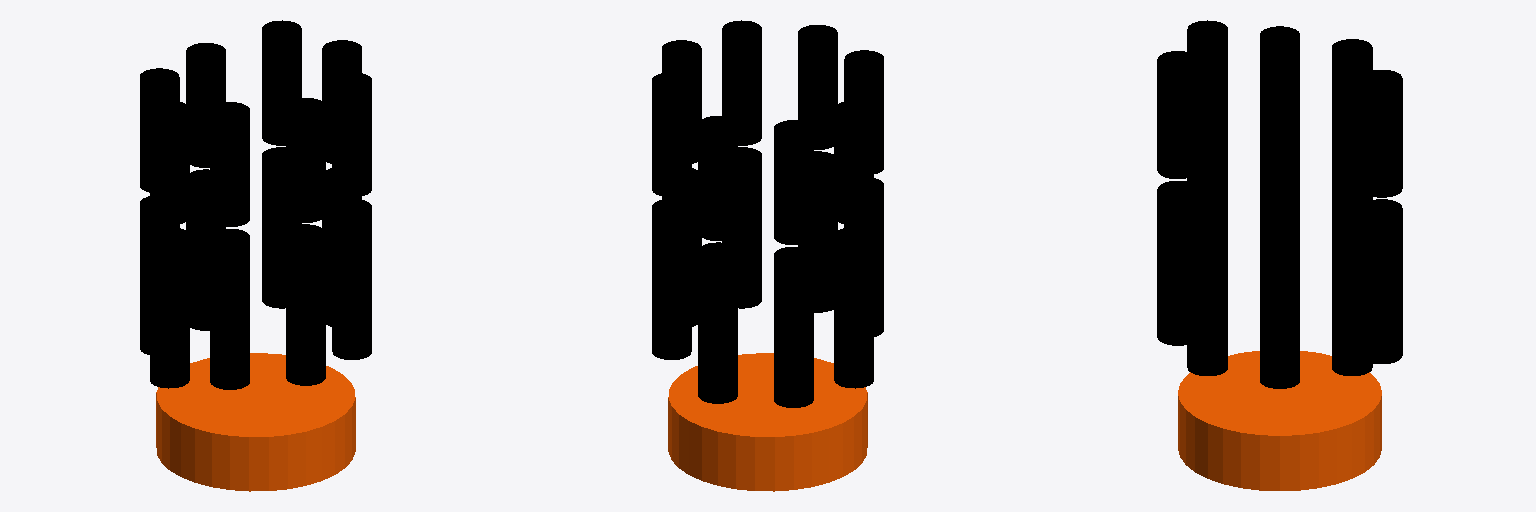
--- Facts derived from the render (not from the file) ---
Views: 3 orthographic renders of the robot side by side, from view 1: azimuth 30°, elevation 25°; view 2: azimuth 150°, elevation 25°; view 3: azimuth 270°, elevation 25°.
Model spider with 25 links and 24 joints (24 revolute), rooted at chassis, posed every joint at zero.
Links seen in each view (by area): view 1: chassis, left_torso_3_3, left_torso_4_3, right_torso_1_3, right_torso_2_3, right_torso_4_3, left_torso_1_3, right_torso_2_2, left_torso_3_2, left_torso_4_2, right_torso_1_2, right_torso_1_1 (+12 smaller); view 2: chassis, left_torso_3_3, left_torso_1_3, left_torso_2_3, right_torso_4_3, right_torso_2_3, right_torso_1_3, right_torso_4_2, left_torso_1_2, left_torso_2_2, left_torso_3_2, left_torso_2_1 (+12 smaller); view 3: chassis, right_torso_2_3, right_torso_4_3, right_torso_3_3, right_torso_1_3, left_torso_1_3, right_torso_2_2, right_torso_4_2, right_torso_3_2, right_torso_2_1, right_torso_4_1, right_torso_3_1 (+7 smaller).
Link boxes in pixels (x1,y1,x2,y2): chassis: (156,353,355,491); left_torso_3_3: (150,100,189,225); left_torso_4_3: (210,102,249,226); right_torso_1_3: (286,98,325,222); right_torso_2_3: (332,72,371,196); right_torso_4_3: (262,20,301,145); left_torso_1_3: (186,43,225,167); right_torso_2_2: (332,199,371,287); left_torso_3_2: (150,227,189,315); left_torso_4_2: (210,229,249,317); right_torso_1_2: (286,224,325,313); right_torso_1_1: (286,306,325,385); chassis: (668,353,867,491); left_torso_3_3: (834,100,873,225); left_torso_1_3: (698,116,737,240); left_torso_2_3: (774,120,813,244); right_torso_4_3: (652,72,691,196); right_torso_2_3: (722,20,761,145); right_torso_1_3: (798,25,837,149); right_torso_4_2: (652,199,691,287); left_torso_1_2: (698,242,737,331); left_torso_2_2: (774,247,813,335); left_torso_3_2: (834,227,873,315); left_torso_2_1: (774,329,813,407); chassis: (1178,351,1381,490); right_torso_2_3: (1187,82,1227,209); right_torso_4_3: (1332,82,1372,209); right_torso_3_3: (1260,94,1299,221); right_torso_1_3: (1157,51,1197,178); left_torso_1_3: (1362,70,1402,197); right_torso_2_2: (1187,211,1227,301); right_torso_4_2: (1332,211,1372,301); right_torso_3_2: (1260,224,1299,314); right_torso_2_1: (1187,294,1227,375); right_torso_4_1: (1332,294,1372,375); right_torso_3_1: (1260,309,1299,388).
Size in the robot's own frame: 12 by 12 by 21 metres.
Geometry: primitives only (box / cylinder / sphere), no mesh files.

URDF robot description (spider):
<?xml version="1.0" ?>
<!-- =================================================================================== -->
<!-- |    This document was autogenerated by xacro from spider.xacro                   | -->
<!-- |    EDITING THIS FILE BY HAND IS NOT RECOMMENDED                                 | -->
<!-- =================================================================================== -->
<!-- Octapod -->
<robot name="spider" xmlns:xacro="http://www.ros.org/wiki/xacro">
  <!-- Space btw top of beam and the each joint -->
  <!-- ros_control plugin -->
  <gazebo>
    <plugin filename="libgazebo_ros_control.so" name="gazebo_ros_control">
      <robotNamespace>/spider</robotNamespace>
      <robotSimType>gazebo_ros_control/DefaultRobotHWSim</robotSimType>
    </plugin>
  </gazebo>
  <plugin filename="libgazebo_ros_joint_state_publisher.so" name="joint_state_publisher">
    <robotNamespace>spider</robotNamespace>
    <jointName>
        joint_1_1,joint_1_2,joint_1_3,joint_2_1,joint_2_2,joint_2_3,joint_3_1,joint_3_2,joint_3_3,joint_4_1,joint_4_2,joint_4_3,joint_5_1,joint_5_2,joint_5_3,joint_6_1,joint_6_2,joint_6_3,joint_7_1,joint_7_2,joint_7_3,joint_8_1,joint_8_2,joint_8_3
    </jointName>
    <updateRate>100</updateRate>
    <alwaysOn>true</alwaysOn>
  </plugin>
  <!-- chassis -->
  <gazebo reference="chassis">
    <material>Gazebo/Orange</material>
  </gazebo>
  <!-- Link1_1 -->
  <gazebo reference="left_torso_1_1">
    <mu1>0.2</mu1>
    <mu2>0.2</mu2>
    <material>Gazebo/Black</material>
  </gazebo>
  <!-- Link1_2 -->
  <gazebo reference="left_torso_1_2">
    <mu1>0.2</mu1>
    <mu2>0.2</mu2>
    <material>Gazebo/Black</material>
  </gazebo>
  <!-- Link1_3 -->
  <gazebo reference="left_torso_1_3">
    <mu1>0.2</mu1>
    <mu2>0.2</mu2>
    <material>Gazebo/Black</material>
  </gazebo>
  <!-- Link2_1 -->
  <gazebo reference="left_torso_2_1">
    <mu1>0.2</mu1>
    <mu2>0.2</mu2>
    <material>Gazebo/Black</material>
  </gazebo>
  <!-- Link2_2 -->
  <gazebo reference="left_torso_2_2">
    <mu1>0.2</mu1>
    <mu2>0.2</mu2>
    <material>Gazebo/Black</material>
  </gazebo>
  <!-- Link2_3 -->
  <gazebo reference="left_torso_2_3">
    <mu1>0.2</mu1>
    <mu2>0.2</mu2>
    <material>Gazebo/Black</material>
  </gazebo>
  <!-- Link3_1 -->
  <gazebo reference="left_torso_3_1">
    <mu1>0.2</mu1>
    <mu2>0.2</mu2>
    <material>Gazebo/Black</material>
  </gazebo>
  <!-- Link3_2 -->
  <gazebo reference="left_torso_3_2">
    <mu1>0.2</mu1>
    <mu2>0.2</mu2>
    <material>Gazebo/Black</material>
  </gazebo>
  <!-- Link3_3 -->
  <gazebo reference="left_torso_3_3">
    <mu1>0.2</mu1>
    <mu2>0.2</mu2>
    <material>Gazebo/Black</material>
  </gazebo>
  <!-- Link4_1 -->
  <gazebo reference="left_torso_4_1">
    <mu1>0.2</mu1>
    <mu2>0.2</mu2>
    <material>Gazebo/Black</material>
  </gazebo>
  <!-- Link4_2 -->
  <gazebo reference="left_torso_4_2">
    <mu1>0.2</mu1>
    <mu2>0.2</mu2>
    <material>Gazebo/Black</material>
  </gazebo>
  <!-- Link4_3 -->
  <gazebo reference="left_torso_4_3">
    <mu1>0.2</mu1>
    <mu2>0.2</mu2>
    <material>Gazebo/Black</material>
  </gazebo>
  <!-- Link5_1 -->
  <gazebo reference="right_torso_1_1">
    <mu1>0.2</mu1>
    <mu2>0.2</mu2>
    <material>Gazebo/Black</material>
  </gazebo>
  <!-- Link5_2 -->
  <gazebo reference="right_torso_1_2">
    <mu1>0.2</mu1>
    <mu2>0.2</mu2>
    <material>Gazebo/Black</material>
  </gazebo>
  <!-- camera_link -->
  <gazebo reference="camera_link">
    <mu1>0.2</mu1>
    <mu2>0.2</mu2>
    <material>Gazebo/Red</material>
  </gazebo>
  <!-- Link5_3 -->
  <gazebo reference="right_torso_1_3">
    <mu1>0.2</mu1>
    <mu2>0.2</mu2>
    <material>Gazebo/Black</material>
  </gazebo>
  <!-- Link6_1 -->
  <gazebo reference="right_torso_2_1">
    <mu1>0.2</mu1>
    <mu2>0.2</mu2>
    <material>Gazebo/Black</material>
  </gazebo>
  <!-- Link6_2 -->
  <gazebo reference="right_torso_2_2">
    <mu1>0.2</mu1>
    <mu2>0.2</mu2>
    <material>Gazebo/Black</material>
  </gazebo>
  <!-- Link6_3 -->
  <gazebo reference="right_torso_2_3">
    <mu1>0.2</mu1>
    <mu2>0.2</mu2>
    <material>Gazebo/Black</material>
  </gazebo>
  <!-- Link7_1 -->
  <gazebo reference="right_torso_3_1">
    <mu1>0.2</mu1>
    <mu2>0.2</mu2>
    <material>Gazebo/Black</material>
  </gazebo>
  <!-- Link7_2 -->
  <gazebo reference="right_torso_3_2">
    <mu1>0.2</mu1>
    <mu2>0.2</mu2>
    <material>Gazebo/Black</material>
  </gazebo>
  <!-- Link7_3 -->
  <gazebo reference="right_torso_3_3">
    <mu1>0.2</mu1>
    <mu2>0.2</mu2>
    <material>Gazebo/Black</material>
  </gazebo>
  <!-- Link8_1 -->
  <gazebo reference="right_torso_4_1">
    <mu1>0.2</mu1>
    <mu2>0.2</mu2>
    <material>Gazebo/Black</material>
  </gazebo>
  <!-- Link8_2 -->
  <gazebo reference="right_torso_4_2">
    <mu1>0.2</mu1>
    <mu2>0.2</mu2>
    <material>Gazebo/Black</material>
  </gazebo>
  <!-- Link8_3 -->
  <gazebo reference="right_torso_4_3">
    <mu1>0.2</mu1>
    <mu2>0.2</mu2>
    <material>Gazebo/Black</material>
  </gazebo>
  <material name="black">
    <color rgba="0.0 0.0 0.0 1.0"/>
  </material>
  <material name="blue">
    <color rgba="0.0 0.0 0.8 1.0"/>
  </material>
  <material name="green">
    <color rgba="0.0 0.8 0.0 1.0"/>
  </material>
  <material name="grey">
    <color rgba="0.2 0.2 0.2 1.0"/>
  </material>
  <material name="orange">
    <color rgba="1.0 0.423529411765 0.0392156862745 1.0"/>
  </material>
  <material name="brown">
    <color rgba="0.870588235294 0.811764705882 0.764705882353 1.0"/>
  </material>
  <material name="red">
    <color rgba="0.8 0.0 0.0 1.0"/>
  </material>
  <material name="white">
    <color rgba="1.0 1.0 1.0 1.0"/>
  </material>
  <!-- chassis -->
  <link name="chassis">
    <collision>
      <origin rpy="0 0 0" xyz="0 0 1.5"/>
      <geometry>
        <cylinder length="3" radius="5"/>
      </geometry>
    </collision>
    <visual>
      <origin rpy="0 0 0" xyz="0 0 1.5"/>
      <geometry>
        <cylinder length="3" radius="5"/>
        <mesh filename="package://spider_description/meshes/chassis_upper.dae"/>
      </geometry>
      <material name="orange"/>
    </visual>
    <inertial>
      <origin rpy="0 0 0" xyz="0 0 1.5"/>
      <mass value="4"/>
      <inertia ixx="16.0" ixy="0.0" ixz="0.0" iyy="16.0" iyz="0.0" izz="11.0"/>
    </inertial>
  </link>
  <joint name="joint_1_1" type="revolute">
    <parent link="chassis"/>
    <child link="left_torso_1_1"/>
    <origin rpy="0 0 0" xyz="0 5 3"/>
    <axis xyz="0 1 0"/>
    <dynamics damping="0.7" friction="0.0"/>
    <limit effort="30" lower="-2.2" upper="0.7" velocity="1.0"/>
    <safety_controller k_position="15" k_velocity="10" soft_lower_limit="-2.0" soft_upper_limit="0.5"/>
  </joint>
  <!-- left_torso_1_1 -->
  <link name="left_torso_1_1">
    <collision>
      <origin rpy="0 0 0" xyz="0 0 4"/>
      <geometry>
        <cylinder length="4" radius="1"/>
      </geometry>
    </collision>
    <visual>
      <origin rpy="0 0 0" xyz="0 0 4"/>
      <geometry>
        <cylinder length="4" radius="1"/>
      </geometry>
      <material name="black"/>
    </visual>
    <inertial>
      <origin rpy="0 0 0" xyz="0 0 4"/>
      <mass value="1"/>
      <inertia ixx="3.5" ixy="0.0" ixz="0.0" iyy="3.5" iyz="0.0" izz="3.0"/>
    </inertial>
  </link>
  <joint name="joint_1_2" type="revolute">
    <parent link="left_torso_1_1"/>
    <child link="left_torso_1_2"/>
    <origin rpy="0 0 0" xyz="0 0 4"/>
    <axis xyz="0 1 0"/>
    <dynamics damping="0.7" friction="0.0"/>
    <limit effort="30" lower="-2.2" upper="0.7" velocity="1.0"/>
    <safety_controller k_position="15" k_velocity="10" soft_lower_limit="-2.0" soft_upper_limit="0.5"/>
  </joint>
  <!-- left_torso_1_2-->
  <link name="left_torso_1_2">
    <collision>
      <origin rpy="0 0 0" xyz="0 0 4"/>
      <geometry>
        <cylinder length="4" radius="1"/>
      </geometry>
    </collision>
    <visual>
      <origin rpy="0 0 0" xyz="0 0 4"/>
      <geometry>
        <cylinder length="4" radius="1"/>
      </geometry>
      <material name="black"/>
    </visual>
    <inertial>
      <origin rpy="0 0 0" xyz="0 0 4"/>
      <mass value="1"/>
      <inertia ixx="3.5" ixy="0.0" ixz="0.0" iyy="3.5" iyz="0.0" izz="3.0"/>
    </inertial>
  </link>
  <joint name="joint_1_3" type="revolute">
    <parent link="left_torso_1_2"/>
    <child link="left_torso_1_3"/>
    <origin rpy="0 0 0" xyz="0 0 4"/>
    <axis xyz="0 1 0"/>
    <dynamics damping="0.7" friction="0.0"/>
    <limit effort="30" lower="-2.2" upper="0.7" velocity="1.0"/>
    <safety_controller k_position="15" k_velocity="10" soft_lower_limit="-2.0" soft_upper_limit="0.5"/>
  </joint>
  <!-- left_torso_1_3 -->
  <link name="left_torso_1_3">
    <collision>
      <origin rpy="0 0 0" xyz="0 0 6"/>
      <geometry>
        <cylinder length="6" radius="1"/>
      </geometry>
    </collision>
    <visual>
      <origin rpy="0 0 0" xyz="0 0 6"/>
      <geometry>
        <cylinder length="6" radius="1"/>
      </geometry>
      <material name="black"/>
    </visual>
    <inertial>
      <origin rpy="0 0 0" xyz="0 0 6"/>
      <mass value="1"/>
      <inertia ixx="4.5" ixy="0.0" ixz="0.0" iyy="4.5" iyz="0.0" izz="3.0"/>
    </inertial>
  </link>
  <joint name="joint_2_1" type="revolute">
    <parent link="chassis"/>
    <child link="left_torso_2_1"/>
    <origin rpy="0 0 0" xyz="-3.535 3.535 3"/>
    <axis xyz="0 1 0"/>
    <dynamics damping="0.7" friction="0.0"/>
    <limit effort="30" lower="-2.2" upper="0.7" velocity="1.0"/>
    <safety_controller k_position="15" k_velocity="10" soft_lower_limit="-2.0" soft_upper_limit="0.5"/>
  </joint>
  <!-- Camera -->
  <link name="left_torso_2_1">
    <collision>
      <origin rpy="0 0 0" xyz="0 0 4"/>
      <geometry>
        <cylinder length="4" radius="1"/>
      </geometry>
    </collision>
    <visual>
      <origin rpy="0 0 0" xyz="0 0 4"/>
      <geometry>
        <cylinder length="4" radius="1"/>
      </geometry>
      <material name="black"/>
    </visual>
    <inertial>
      <origin rpy="0 0 0" xyz="0 0 4"/>
      <mass value="1"/>
      <inertia ixx="3.5" ixy="0.0" ixz="0.0" iyy="3.5" iyz="0.0" izz="3.0"/>
    </inertial>
  </link>
  <joint name="joint_2_2" type="revolute">
    <parent link="left_torso_2_1"/>
    <child link="left_torso_2_2"/>
    <origin rpy="0 0 0" xyz="0 0 4"/>
    <axis xyz="0 1 0"/>
    <dynamics damping="0.7" friction="0.0"/>
    <limit effort="30" lower="-2.2" upper="0.7" velocity="1.0"/>
    <safety_controller k_position="15" k_velocity="10" soft_lower_limit="-2.0" soft_upper_limit="0.5"/>
  </joint>
  <!--left torso link 2_2-->
  <link name="left_torso_2_2">
    <collision>
      <origin rpy="0 0 0" xyz="0 0 4"/>
      <geometry>
        <cylinder length="4" radius="1"/>
      </geometry>
    </collision>
    <visual>
      <origin rpy="0 0 0" xyz="0 0 4"/>
      <geometry>
        <cylinder length="4" radius="1"/>
      </geometry>
      <material name="black"/>
    </visual>
    <inertial>
      <origin rpy="0 0 0" xyz="0 0 4"/>
      <mass value="1"/>
      <inertia ixx="3.5" ixy="0.0" ixz="0.0" iyy="3.5" iyz="0.0" izz="3.0"/>
    </inertial>
  </link>
  <joint name="joint_2_3" type="revolute">
    <parent link="left_torso_2_2"/>
    <child link="left_torso_2_3"/>
    <origin rpy="0 0 0" xyz="0 0 4"/>
    <axis xyz="0 1 0"/>
    <dynamics damping="0.7" friction="0.0"/>
    <limit effort="30" lower="-2.2" upper="0.7" velocity="1.0"/>
    <safety_controller k_position="15" k_velocity="10" soft_lower_limit="-2.0" soft_upper_limit="0.5"/>
  </joint>
  <!--left torso link 2_3-->
  <link name="left_torso_2_3">
    <collision>
      <origin rpy="0 0 0" xyz="0 0 6"/>
      <geometry>
        <cylinder length="6" radius="1"/>
      </geometry>
    </collision>
    <visual>
      <origin rpy="0 0 0" xyz="0 0 6"/>
      <geometry>
        <cylinder length="6" radius="1"/>
      </geometry>
      <material name="black"/>
    </visual>
    <inertial>
      <origin rpy="0 0 0" xyz="0 0 6"/>
      <mass value="1"/>
      <inertia ixx="4.5" ixy="0.0" ixz="0.0" iyy="4.5" iyz="0.0" izz="3.0"/>
    </inertial>
  </link>
  <joint name="joint_3_1" type="revolute">
    <parent link="chassis"/>
    <child link="left_torso_3_1"/>
    <origin rpy="0 0 0" xyz="-5 0 3"/>
    <axis xyz="0 1 0"/>
    <dynamics damping="0.7" friction="0.0"/>
    <limit effort="30" lower="-2.2" upper="0.7" velocity="1.0"/>
    <safety_controller k_position="15" k_velocity="10" soft_lower_limit="-2.0" soft_upper_limit="0.5"/>
  </joint>
  <!--left torso link 3_1-->
  <link name="left_torso_3_1">
    <collision>
      <origin rpy="0 0 0" xyz="0 0 4"/>
      <geometry>
        <cylinder length="4" radius="1"/>
      </geometry>
    </collision>
    <visual>
      <origin rpy="0 0 0" xyz="0 0 4"/>
      <geometry>
        <cylinder length="4" radius="1"/>
      </geometry>
      <material name="black"/>
    </visual>
    <inertial>
      <origin rpy="0 0 0" xyz="0 0 4"/>
      <mass value="1"/>
      <inertia ixx="3.5" ixy="0.0" ixz="0.0" iyy="3.5" iyz="0.0" izz="3.0"/>
    </inertial>
  </link>
  <joint name="joint_3_2" type="revolute">
    <parent link="left_torso_3_1"/>
    <child link="left_torso_3_2"/>
    <origin rpy="0 0 0" xyz="0 0 4"/>
    <axis xyz="0 1 0"/>
    <dynamics damping="0.7" friction="0.0"/>
    <limit effort="30" lower="-2.2" upper="0.7" velocity="1.0"/>
    <safety_controller k_position="15" k_velocity="10" soft_lower_limit="-2.0" soft_upper_limit="0.5"/>
  </joint>
  <link name="left_torso_3_2">
    <collision>
      <origin rpy="0 0 0" xyz="0 0 4"/>
      <geometry>
        <cylinder length="4" radius="1"/>
      </geometry>
    </collision>
    <visual>
      <origin rpy="0 0 0" xyz="0 0 4"/>
      <geometry>
        <cylinder length="4" radius="1"/>
      </geometry>
      <material name="black"/>
    </visual>
    <inertial>
      <origin rpy="0 0 0" xyz="0 0 4"/>
      <mass value="1"/>
      <inertia ixx="3.5" ixy="0.0" ixz="0.0" iyy="3.5" iyz="0.0" izz="3.0"/>
    </inertial>
  </link>
  <joint name="joint_3_3" type="revolute">
    <parent link="left_torso_3_2"/>
    <child link="left_torso_3_3"/>
    <origin rpy="0 0 0" xyz="0 0 4"/>
    <axis xyz="0 1 0"/>
    <dynamics damping="0.7" friction="0.0"/>
    <limit effort="30" lower="-2.2" upper="0.7" velocity="1.0"/>
    <safety_controller k_position="15" k_velocity="10" soft_lower_limit="-2.0" soft_upper_limit="0.5"/>
  </joint>
  <link name="left_torso_3_3">
    <collision>
      <origin rpy="0 0 0" xyz="0 0 6"/>
      <geometry>
        <cylinder length="6" radius="1"/>
      </geometry>
    </collision>
    <visual>
      <origin rpy="0 0 0" xyz="0 0 6"/>
      <geometry>
        <cylinder length="6" radius="1"/>
      </geometry>
      <material name="black"/>
    </visual>
    <inertial>
      <origin rpy="0 0 0" xyz="0 0 6"/>
      <mass value="1"/>
      <inertia ixx="4.5" ixy="0.0" ixz="0.0" iyy="4.5" iyz="0.0" izz="3.0"/>
    </inertial>
  </link>
  <!-- left torso link 4-->
  <joint name="joint_4_1" type="revolute">
    <parent link="chassis"/>
    <child link="left_torso_4_1"/>
    <origin rpy="0 0 0" xyz="-3.535 -3.535 4"/>
    <axis xyz="0 1 0"/>
    <dynamics damping="0.7" friction="0.0"/>
    <limit effort="30" lower="-2.2" upper="0.7" velocity="1.0"/>
    <safety_controller k_position="15" k_velocity="10" soft_lower_limit="-2.0" soft_upper_limit="0.5"/>
  </joint>
  <link name="left_torso_4_1">
    <collision>
      <origin rpy="0 0 0" xyz="0 0 4"/>
      <geometry>
        <cylinder length="4" radius="1"/>
      </geometry>
    </collision>
    <visual>
      <origin rpy="0 0 0" xyz="0 0 4"/>
      <geometry>
        <cylinder length="4" radius="1"/>
      </geometry>
      <material name="black"/>
    </visual>
    <inertial>
      <origin rpy="0 0 0" xyz="0 0 4"/>
      <mass value="1"/>
      <inertia ixx="3.5" ixy="0.0" ixz="0.0" iyy="3.5" iyz="0.0" izz="3.0"/>
    </inertial>
  </link>
  <joint name="joint_4_2" type="revolute">
    <parent link="left_torso_4_1"/>
    <child link="left_torso_4_2"/>
    <origin rpy="0 0 0" xyz="0 0 4"/>
    <axis xyz="0 1 0"/>
    <dynamics damping="0.7" friction="0.0"/>
    <limit effort="30" lower="-2.2" upper="0.7" velocity="1.0"/>
    <safety_controller k_position="15" k_velocity="10" soft_lower_limit="-2.0" soft_upper_limit="0.5"/>
  </joint>
  <link name="left_torso_4_2">
    <collision>
      <origin rpy="0 0 0" xyz="0 0 4"/>
      <geometry>
        <cylinder length="4" radius="1"/>
      </geometry>
    </collision>
    <visual>
      <origin rpy="0 0 0" xyz="0 0 4"/>
      <geometry>
        <cylinder length="4" radius="1"/>
      </geometry>
      <material name="black"/>
    </visual>
    <inertial>
      <origin rpy="0 0 0" xyz="0 0 4"/>
      <mass value="1"/>
      <inertia ixx="3.5" ixy="0.0" ixz="0.0" iyy="3.5" iyz="0.0" izz="3.0"/>
    </inertial>
  </link>
  <joint name="joint_4_3" type="revolute">
    <parent link="left_torso_4_2"/>
    <child link="left_torso_4_3"/>
    <origin rpy="0 0 0" xyz="0 0 4"/>
    <axis xyz="0 1 0"/>
    <dynamics damping="0.7" friction="0.0"/>
    <limit effort="30" lower="-2.2" upper="0.7" velocity="1.0"/>
    <safety_controller k_position="15" k_velocity="10" soft_lower_limit="-2.0" soft_upper_limit="0.5"/>
  </joint>
  <link name="left_torso_4_3">
    <collision>
      <origin rpy="0 0 0" xyz="0 0 6"/>
      <geometry>
        <cylinder length="6" radius="1"/>
      </geometry>
    </collision>
    <visual>
      <origin rpy="0 0 0" xyz="0 0 6"/>
      <geometry>
        <cylinder length="6" radius="1"/>
      </geometry>
      <material name="black"/>
    </visual>
    <inertial>
      <origin rpy="0 0 0" xyz="0 0 6"/>
      <mass value="1"/>
      <inertia ixx="4.5" ixy="0.0" ixz="0.0" iyy="4.5" iyz="0.0" izz="3.0"/>
    </inertial>
  </link>
  <joint name="joint_5_1" type="revolute">
    <parent link="chassis"/>
    <child link="right_torso_1_1"/>
    <origin rpy="0 0 0" xyz="0 -5 4"/>
    <axis xyz="0 1 0"/>
    <dynamics damping="0.7" friction="0.0"/>
    <limit effort="30" lower="-2.2" upper="0.7" velocity="1.0"/>
    <safety_controller k_position="15" k_velocity="10" soft_lower_limit="-2.0" soft_upper_limit="0.5"/>
  </joint>
  <link name="right_torso_1_1">
    <collision>
      <origin rpy="0 0 0" xyz="0 0 4"/>
      <geometry>
        <cylinder length="4" radius="1"/>
      </geometry>
    </collision>
    <visual>
      <origin rpy="0 0 0" xyz="0 0 4"/>
      <geometry>
        <cylinder length="4" radius="1"/>
      </geometry>
      <material name="black"/>
    </visual>
    <inertial>
      <origin rpy="0 0 0" xyz="0 0 4"/>
      <mass value="1"/>
      <inertia ixx="3.5" ixy="0.0" ixz="0.0" iyy="3.5" iyz="0.0" izz="3.0"/>
    </inertial>
  </link>
  <joint name="joint_5_2" type="revolute">
    <parent link="right_torso_1_1"/>
    <child link="right_torso_1_2"/>
    <origin rpy="0 0 0" xyz="0 0 4"/>
    <axis xyz="0 1 0"/>
    <dynamics damping="0.7" friction="0.0"/>
    <limit effort="30" lower="-2.2" upper="0.7" velocity="1.0"/>
    <safety_controller k_position="15" k_velocity="10" soft_lower_limit="-2.0" soft_upper_limit="0.5"/>
  </joint>
  <link name="right_torso_1_2">
    <collision>
      <origin rpy="0 0 0" xyz="0 0 4"/>
      <geometry>
        <cylinder length="4" radius="1"/>
      </geometry>
    </collision>
    <visual>
      <origin rpy="0 0 0" xyz="0 0 4"/>
      <geometry>
        <cylinder length="4" radius="1"/>
      </geometry>
      <material name="black"/>
    </visual>
    <inertial>
      <origin rpy="0 0 0" xyz="0 0 4"/>
      <mass value="1"/>
      <inertia ixx="3.5" ixy="0.0" ixz="0.0" iyy="3.5" iyz="0.0" izz="3.0"/>
    </inertial>
  </link>
  <joint name="joint_5_3" type="revolute">
    <parent link="right_torso_1_2"/>
    <child link="right_torso_1_3"/>
    <origin rpy="0 0 0" xyz="0 0 4"/>
    <axis xyz="0 1 0"/>
    <dynamics damping="0.7" friction="0.0"/>
    <limit effort="30" lower="-2.2" upper="0.7" velocity="1.0"/>
    <safety_controller k_position="15" k_velocity="10" soft_lower_limit="-2.0" soft_upper_limit="0.5"/>
  </joint>
  <link name="right_torso_1_3">
    <collision>
      <origin rpy="0 0 0" xyz="0 0 6"/>
      <geometry>
        <cylinder length="6" radius="1"/>
      </geometry>
    </collision>
    <visual>
      <origin rpy="0 0 0" xyz="0 0 6"/>
      <geometry>
        <cylinder length="6" radius="1"/>
      </geometry>
      <material name="black"/>
    </visual>
    <inertial>
      <origin rpy="0 0 0" xyz="0 0 6"/>
      <mass value="1"/>
      <inertia ixx="4.5" ixy="0.0" ixz="0.0" iyy="4.5" iyz="0.0" izz="3.0"/>
    </inertial>
  </link>
  <joint name="joint_6_1" type="revolute">
    <parent link="chassis"/>
    <child link="right_torso_2_1"/>
    <origin rpy="0 0 0" xyz="3.535 -3.535 4"/>
    <axis xyz="0 1 0"/>
    <dynamics damping="0.7" friction="0.0"/>
    <limit effort="30" lower="-2.2" upper="0.7" velocity="1.0"/>
    <safety_controller k_position="15" k_velocity="10" soft_lower_limit="-2.0" soft_upper_limit="0.5"/>
  </joint>
  <link name="right_torso_2_1">
    <collision>
      <origin rpy="0 0 0" xyz="0 0 4"/>
      <geometry>
        <cylinder length="4" radius="1"/>
      </geometry>
    </collision>
    <visual>
      <origin rpy="0 0 0" xyz="0 0 4"/>
      <geometry>
        <cylinder length="4" radius="1"/>
      </geometry>
      <material name="black"/>
    </visual>
    <inertial>
      <origin rpy="0 0 0" xyz="0 0 4"/>
      <mass value="1"/>
      <inertia ixx="3.5" ixy="0.0" ixz="0.0" iyy="3.5" iyz="0.0" izz="3.0"/>
    </inertial>
  </link>
  <joint name="joint_6_2" type="revolute">
    <parent link="right_torso_2_1"/>
    <child link="right_torso_2_2"/>
    <origin rpy="0 0 0" xyz="0 0 4"/>
    <axis xyz="0 1 0"/>
    <dynamics damping="0.7" friction="0.0"/>
    <limit effort="30" lower="-2.2" upper="0.7" velocity="1.0"/>
    <safety_controller k_position="15" k_velocity="10" soft_lower_limit="-2.0" soft_upper_limit="0.5"/>
  </joint>
  <link name="right_torso_2_2">
    <collision>
      <origin rpy="0 0 0" xyz="0 0 4"/>
      <geometry>
        <cylinder length="4" radius="1"/>
      </geometry>
    </collision>
    <visual>
      <origin rpy="0 0 0" xyz="0 0 4"/>
      <geometry>
        <cylinder length="4" radius="1"/>
      </geometry>
      <material name="black"/>
    </visual>
    <inertial>
      <origin rpy="0 0 0" xyz="0 0 4"/>
      <mass value="1"/>
      <inertia ixx="3.5" ixy="0.0" ixz="0.0" iyy="3.5" iyz="0.0" izz="3.0"/>
    </inertial>
  </link>
  <joint name="joint_6_3" type="revolute">
    <parent link="right_torso_2_2"/>
    <child link="right_torso_2_3"/>
    <origin rpy="0 0 0" xyz="0 0 4"/>
    <axis xyz="0 1 0"/>
    <dynamics damping="0.7" friction="0.0"/>
    <limit effort="30" lower="-2.2" upper="0.7" velocity="1.0"/>
    <safety_controller k_position="15" k_velocity="10" soft_lower_limit="-2.0" soft_upper_limit="0.5"/>
  </joint>
  <link name="right_torso_2_3">
    <collision>
      <origin rpy="0 0 0" xyz="0 0 6"/>
      <geometry>
        <cylinder length="6" radius="1"/>
      </geometry>
    </collision>
    <visual>
      <origin rpy="0 0 0" xyz="0 0 6"/>
      <geometry>
        <cylinder length="6" radius="1"/>
      </geometry>
      <material name="black"/>
    </visual>
    <inertial>
      <origin rpy="0 0 0" xyz="0 0 6"/>
      <mass value="1"/>
      <inertia ixx="4.5" ixy="0.0" ixz="0.0" iyy="4.5" iyz="0.0" izz="3.0"/>
    </inertial>
  </link>
  <joint name="joint_7_1" type="revolute">
    <parent link="chassis"/>
    <child link="right_torso_3_1"/>
    <origin rpy="0 0 0" xyz="5 0 4"/>
    <axis xyz="0 1 0"/>
    <dynamics damping="0.7" friction="0.0"/>
    <limit effort="30" lower="-2.2" upper="0.7" velocity="1.0"/>
    <safety_controller k_position="15" k_velocity="10" soft_lower_limit="-2.0" soft_upper_limit="0.5"/>
  </joint>
  <link name="right_torso_3_1">
    <collision>
      <origin rpy="0 0 0" xyz="0 0 4"/>
      <geometry>
        <cylinder length="4" radius="1"/>
      </geometry>
    </collision>
    <visual>
      <origin rpy="0 0 0" xyz="0 0 4"/>
      <geometry>
        <cylinder length="4" radius="1"/>
      </geometry>
      <material name="black"/>
    </visual>
    <inertial>
      <origin rpy="0 0 0" xyz="0 0 4"/>
      <mass value="1"/>
      <inertia ixx="3.5" ixy="0.0" ixz="0.0" iyy="3.5" iyz="0.0" izz="3.0"/>
    </inertial>
  </link>
  <joint name="joint_7_2" type="revolute">
    <parent link="right_torso_3_1"/>
    <child link="right_torso_3_2"/>
    <origin rpy="0 0 0" xyz="0 0 4"/>
    <axis xyz="0 1 0"/>
    <dynamics damping="0.7" friction="0.0"/>
    <limit effort="30" lower="-2.2" upper="0.7" velocity="1.0"/>
    <safety_controller k_position="15" k_velocity="10" soft_lower_limit="-2.0" soft_upper_limit="0.5"/>
  </joint>
  <link name="right_torso_3_2">
    <collision>
      <origin rpy="0 0 0" xyz="0 0 4"/>
      <geometry>
        <cylinder length="4" radius="1"/>
      </geometry>
    </collision>
    <visual>
      <origin rpy="0 0 0" xyz="0 0 4"/>
      <geometry>
        <cylinder length="4" radius="1"/>
      </geometry>
      <material name="black"/>
    </visual>
    <inertial>
      <origin rpy="0 0 0" xyz="0 0 4"/>
      <mass value="1"/>
      <inertia ixx="3.5" ixy="0.0" ixz="0.0" iyy="3.5" iyz="0.0" izz="3.0"/>
    </inertial>
  </link>
  <joint name="joint_7_3" type="revolute">
    <parent link="right_torso_3_2"/>
    <child link="right_torso_3_3"/>
    <origin rpy="0 0 0" xyz="0 0 4"/>
    <axis xyz="0 1 0"/>
    <dynamics damping="0.7" friction="0.0"/>
    <limit effort="30" lower="-2.2" upper="0.7" velocity="1.0"/>
    <safety_controller k_position="15" k_velocity="10" soft_lower_limit="-2.0" soft_upper_limit="0.5"/>
  </joint>
  <link name="right_torso_3_3">
    <collision>
      <origin rpy="0 0 0" xyz="0 0 6"/>
      <geometry>
        <cylinder length="6" radius="1"/>
      </geometry>
    </collision>
    <visual>
      <origin rpy="0 0 0" xyz="0 0 6"/>
      <geometry>
        <cylinder length="6" radius="1"/>
      </geometry>
      <material name="black"/>
    </visual>
    <inertial>
      <origin rpy="0 0 0" xyz="0 0 6"/>
      <mass value="1"/>
      <inertia ixx="4.5" ixy="0.0" ixz="0.0" iyy="4.5" iyz="0.0" izz="3.0"/>
    </inertial>
  </link>
  <joint name="joint_8_1" type="revolute">
    <parent link="chassis"/>
    <child link="right_torso_4_1"/>
    <origin rpy="0 0 0" xyz="3.535 3.535 4"/>
    <axis xyz="0 1 0"/>
    <dynamics damping="0.7" friction="0.0"/>
    <limit effort="30" lower="-2.2" upper="0.7" velocity="1.0"/>
    <safety_controller k_position="15" k_velocity="10" soft_lower_limit="-2.0" soft_upper_limit="0.5"/>
  </joint>
  <link name="right_torso_4_1">
    <collision>
      <origin rpy="0 0 0" xyz="0 0 4"/>
      <geometry>
        <cylinder length="4" radius="1"/>
      </geometry>
    </collision>
    <visual>
      <origin rpy="0 0 0" xyz="0 0 4"/>
      <geometry>
        <cylinder length="4" radius="1"/>
      </geometry>
      <material name="black"/>
    </visual>
    <inertial>
      <origin rpy="0 0 0" xyz="0 0 4"/>
      <mass value="1"/>
      <inertia ixx="3.5" ixy="0.0" ixz="0.0" iyy="3.5" iyz="0.0" izz="3.0"/>
    </inertial>
  </link>
  <joint name="joint_8_2" type="revolute">
    <parent link="right_torso_4_1"/>
    <child link="right_torso_4_2"/>
    <origin rpy="0 0 0" xyz="0 0 4"/>
    <axis xyz="0 1 0"/>
    <dynamics damping="0.7" friction="0.0"/>
    <limit effort="30" lower="-2.2" upper="0.7" velocity="1.0"/>
    <safety_controller k_position="15" k_velocity="10" soft_lower_limit="-2.0" soft_upper_limit="0.5"/>
  </joint>
  <link name="right_torso_4_2">
    <collision>
      <origin rpy="0 0 0" xyz="0 0 4"/>
      <geometry>
        <cylinder length="4" radius="1"/>
      </geometry>
    </collision>
    <visual>
      <origin rpy="0 0 0" xyz="0 0 4"/>
      <geometry>
        <cylinder length="4" radius="1"/>
      </geometry>
      <material name="black"/>
    </visual>
    <inertial>
      <origin rpy="0 0 0" xyz="0 0 4"/>
      <mass value="1"/>
      <inertia ixx="3.5" ixy="0.0" ixz="0.0" iyy="3.5" iyz="0.0" izz="3.0"/>
    </inertial>
  </link>
  <joint name="joint_8_3" type="revolute">
    <parent link="right_torso_4_2"/>
    <child link="right_torso_4_3"/>
    <origin rpy="0 0 0" xyz="0 0 4"/>
    <axis xyz="0 1 0"/>
    <dynamics damping="0.7" friction="0.0"/>
    <limit effort="30" lower="-2.2" upper="0.7" velocity="1.0"/>
    <safety_controller k_position="15" k_velocity="10" soft_lower_limit="-2.0" soft_upper_limit="0.5"/>
  </joint>
  <link name="right_torso_4_3">
    <collision>
      <origin rpy="0 0 0" xyz="0 0 6"/>
      <geometry>
        <cylinder length="6" radius="1"/>
      </geometry>
    </collision>
    <visual>
      <origin rpy="0 0 0" xyz="0 0 6"/>
      <geometry>
        <cylinder length="6" radius="1"/>
      </geometry>
      <material name="black"/>
    </visual>
    <inertial>
      <origin rpy="0 0 0" xyz="0 0 6"/>
      <mass value="1"/>
      <inertia ixx="4.5" ixy="0.0" ixz="0.0" iyy="4.5" iyz="0.0" izz="3.0"/>
    </inertial>
  </link>
  <transmission name="tran1_1">
    <type>transmission_interface/SimpleTransmission</type>
    <joint name="joint_1_1">
      <hardwareInterface>hardware_interface/EffortJointInterface</hardwareInterface>
    </joint>
    <actuator name="motor1_1">
      <hardwareInterface>hardware_interface/EffortJointInterface</hardwareInterface>
      <mechanicalReduction>1</mechanicalReduction>
    </actuator>
  </transmission>
  <transmission name="tran1_2">
    <type>transmission_interface/SimpleTransmission</type>
    <joint name="joint_1_2">
      <hardwareInterface>hardware_interface/EffortJointInterface</hardwareInterface>
    </joint>
    <actuator name="motor1_2">
      <hardwareInterface>hardware_interface/EffortJointInterface</hardwareInterface>
      <mechanicalReduction>1</mechanicalReduction>
    </actuator>
  </transmission>
  <transmission name="tran1_3">
    <type>transmission_interface/SimpleTransmission</type>
    <joint name="joint_1_3">
      <hardwareInterface>hardware_interface/EffortJointInterface</hardwareInterface>
    </joint>
    <actuator name="motor1_3">
      <hardwareInterface>hardware_interface/EffortJointInterface</hardwareInterface>
      <mechanicalReduction>1</mechanicalReduction>
    </actuator>
  </transmission>
  <transmission name="tran2_1">
    <type>transmission_interface/SimpleTransmission</type>
    <joint name="joint_2_1">
      <hardwareInterface>hardware_interface/EffortJointInterface</hardwareInterface>
    </joint>
    <actuator name="motor2_1">
      <hardwareInterface>hardware_interface/EffortJointInterface</hardwareInterface>
      <mechanicalReduction>1</mechanicalReduction>
    </actuator>
  </transmission>
  <transmission name="tran2_2">
    <type>transmission_interface/SimpleTransmission</type>
    <joint name="joint_2_2">
      <hardwareInterface>hardware_interface/EffortJointInterface</hardwareInterface>
    </joint>
    <actuator name="motor2_2">
      <hardwareInterface>hardware_interface/EffortJointInterface</hardwareInterface>
      <mechanicalReduction>1</mechanicalReduction>
    </actuator>
  </transmission>
  <transmission name="tran2_3">
    <type>transmission_interface/SimpleTransmission</type>
    <joint name="joint_2_3">
      <hardwareInterface>hardware_interface/EffortJointInterface</hardwareInterface>
    </joint>
    <actuator name="motor2_3">
      <hardwareInterface>hardware_interface/EffortJointInterface</hardwareInterface>
      <mechanicalReduction>1</mechanicalReduction>
    </actuator>
  </transmission>
  <transmission name="tran3_1">
    <type>transmission_interface/SimpleTransmission</type>
    <joint name="joint_3_1">
      <hardwareInterface>hardware_interface/EffortJointInterface</hardwareInterface>
    </joint>
    <actuator name="motor3_1">
      <hardwareInterface>hardware_interface/EffortJointInterface</hardwareInterface>
      <mechanicalReduction>1</mechanicalReduction>
    </actuator>
  </transmission>
  <transmission name="tran3_2">
    <type>transmission_interface/SimpleTransmission</type>
    <joint name="joint_3_2">
      <hardwareInterface>hardware_interface/EffortJointInterface</hardwareInterface>
    </joint>
    <actuator name="motor3_2">
      <hardwareInterface>hardware_interface/EffortJointInterface</hardwareInterface>
      <mechanicalReduction>1</mechanicalReduction>
    </actuator>
  </transmission>
  <transmission name="tran3_3">
    <type>transmission_interface/SimpleTransmission</type>
    <joint name="joint_3_3">
      <hardwareInterface>hardware_interface/EffortJointInterface</hardwareInterface>
    </joint>
    <actuator name="motor3_3">
      <hardwareInterface>hardware_interface/EffortJointInterface</hardwareInterface>
      <mechanicalReduction>1</mechanicalReduction>
    </actuator>
  </transmission>
  <transmission name="tran4_1">
    <type>transmission_interface/SimpleTransmission</type>
    <joint name="joint_4_1">
      <hardwareInterface>hardware_interface/EffortJointInterface</hardwareInterface>
    </joint>
    <actuator name="motor4_1">
      <hardwareInterface>hardware_interface/EffortJointInterface</hardwareInterface>
      <mechanicalReduction>1</mechanicalReduction>
    </actuator>
  </transmission>
  <transmission name="tran4_2">
    <type>transmission_interface/SimpleTransmission</type>
    <joint name="joint_4_2">
      <hardwareInterface>hardware_interface/EffortJointInterface</hardwareInterface>
    </joint>
    <actuator name="motor4_2">
      <hardwareInterface>hardware_interface/EffortJointInterface</hardwareInterface>
      <mechanicalReduction>1</mechanicalReduction>
    </actuator>
  </transmission>
  <transmission name="tran4_3">
    <type>transmission_interface/SimpleTransmission</type>
    <joint name="joint_4_3">
      <hardwareInterface>hardware_interface/EffortJointInterface</hardwareInterface>
    </joint>
    <actuator name="motor4_3">
      <hardwareInterface>hardware_interface/EffortJointInterface</hardwareInterface>
      <mechanicalReduction>1</mechanicalReduction>
    </actuator>
  </transmission>
  <transmission name="tran5_1">
    <type>transmission_interface/SimpleTransmission</type>
    <joint name="joint_5_1">
      <hardwareInterface>hardware_interface/EffortJointInterface</hardwareInterface>
    </joint>
    <actuator name="motor5_1">
      <hardwareInterface>hardware_interface/EffortJointInterface</hardwareInterface>
      <mechanicalReduction>1</mechanicalReduction>
    </actuator>
  </transmission>
  <transmission name="tran5_2">
    <type>transmission_interface/SimpleTransmission</type>
    <joint name="joint_5_2">
      <hardwareInterface>hardware_interface/EffortJointInterface</hardwareInterface>
    </joint>
    <actuator name="motor5_2">
      <hardwareInterface>hardware_interface/EffortJointInterface</hardwareInterface>
      <mechanicalReduction>1</mechanicalReduction>
    </actuator>
  </transmission>
  <transmission name="tran5_3">
    <type>transmission_interface/SimpleTransmission</type>
    <joint name="joint_5_3">
      <hardwareInterface>hardware_interface/EffortJointInterface</hardwareInterface>
    </joint>
    <actuator name="motor5_3">
      <hardwareInterface>hardware_interface/EffortJointInterface</hardwareInterface>
      <mechanicalReduction>1</mechanicalReduction>
    </actuator>
  </transmission>
  <transmission name="tran6_1">
    <type>transmission_interface/SimpleTransmission</type>
    <joint name="joint_6_1">
      <hardwareInterface>hardware_interface/EffortJointInterface</hardwareInterface>
    </joint>
    <actuator name="motor6_1">
      <hardwareInterface>hardware_interface/EffortJointInterface</hardwareInterface>
      <mechanicalReduction>1</mechanicalReduction>
    </actuator>
  </transmission>
  <transmission name="tran6_2">
    <type>transmission_interface/SimpleTransmission</type>
    <joint name="joint_6_2">
      <hardwareInterface>hardware_interface/EffortJointInterface</hardwareInterface>
    </joint>
    <actuator name="motor6_2">
      <hardwareInterface>hardware_interface/EffortJointInterface</hardwareInterface>
      <mechanicalReduction>1</mechanicalReduction>
    </actuator>
  </transmission>
  <transmission name="tran6_3">
    <type>transmission_interface/SimpleTransmission</type>
    <joint name="joint_6_3">
      <hardwareInterface>hardware_interface/EffortJointInterface</hardwareInterface>
    </joint>
    <actuator name="motor6_3">
      <hardwareInterface>hardware_interface/EffortJointInterface</hardwareInterface>
      <mechanicalReduction>1</mechanicalReduction>
    </actuator>
  </transmission>
  <transmission name="tran7_1">
    <type>transmission_interface/SimpleTransmission</type>
    <joint name="joint_7_1">
      <hardwareInterface>hardware_interface/EffortJointInterface</hardwareInterface>
    </joint>
    <actuator name="motor7_1">
      <hardwareInterface>hardware_interface/EffortJointInterface</hardwareInterface>
      <mechanicalReduction>1</mechanicalReduction>
    </actuator>
  </transmission>
  <transmission name="tran7_2">
    <type>transmission_interface/SimpleTransmission</type>
    <joint name="joint_7_2">
      <hardwareInterface>hardware_interface/EffortJointInterface</hardwareInterface>
    </joint>
    <actuator name="motor7_2">
      <hardwareInterface>hardware_interface/EffortJointInterface</hardwareInterface>
      <mechanicalReduction>1</mechanicalReduction>
    </actuator>
  </transmission>
  <transmission name="tran7_3">
    <type>transmission_interface/SimpleTransmission</type>
    <joint name="joint_7_3">
      <hardwareInterface>hardware_interface/EffortJointInterface</hardwareInterface>
    </joint>
    <actuator name="motor7_3">
      <hardwareInterface>hardware_interface/EffortJointInterface</hardwareInterface>
      <mechanicalReduction>1</mechanicalReduction>
    </actuator>
  </transmission>
  <transmission name="tran8_1">
    <type>transmission_interface/SimpleTransmission</type>
    <joint name="joint_8_1">
      <hardwareInterface>hardware_interface/EffortJointInterface</hardwareInterface>
    </joint>
    <actuator name="motor8_1">
      <hardwareInterface>hardware_interface/EffortJointInterface</hardwareInterface>
      <mechanicalReduction>1</mechanicalReduction>
    </actuator>
  </transmission>
  <transmission name="tran8_2">
    <type>transmission_interface/SimpleTransmission</type>
    <joint name="joint_8_2">
      <hardwareInterface>hardware_interface/EffortJointInterface</hardwareInterface>
    </joint>
    <actuator name="motor8_2">
      <hardwareInterface>hardware_interface/EffortJointInterface</hardwareInterface>
      <mechanicalReduction>1</mechanicalReduction>
    </actuator>
  </transmission>
  <transmission name="tran8_3">
    <type>transmission_interface/SimpleTransmission</type>
    <joint name="joint_8_3">
      <hardwareInterface>hardware_interface/EffortJointInterface</hardwareInterface>
    </joint>
    <actuator name="motor8_3">
      <hardwareInterface>hardware_interface/EffortJointInterface</hardwareInterface>
      <mechanicalReduction>1</mechanicalReduction>
    </actuator>
  </transmission>
</robot>
